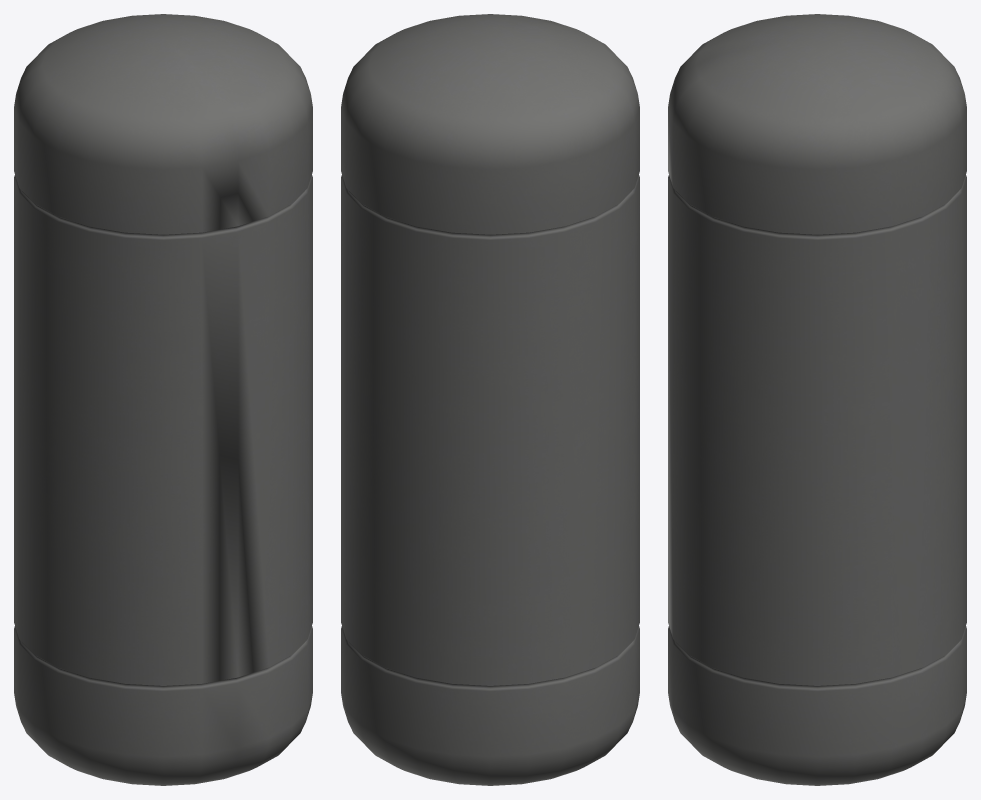
File: propane-small-shell-tripo-original.glb
The picture shows the model from 3 angles, left to right: view 1: azimuth 30°, elevation 25°; view 2: azimuth 150°, elevation 25°; view 3: azimuth 270°, elevation 25°; orthographic projection.
Visible parts, largest first — view 1: Authored_surface; view 2: Authored_surface; view 3: Authored_surface.
Boxes of the visible parts, x1,y1,x2,y2 form: Authored_surface: [14, 14, 312, 785]; Authored_surface: [341, 14, 639, 785]; Authored_surface: [668, 14, 966, 785].
Bounding box in the file's own units: 0.375 × 1 × 0.375.
1 material, 1 textured.
